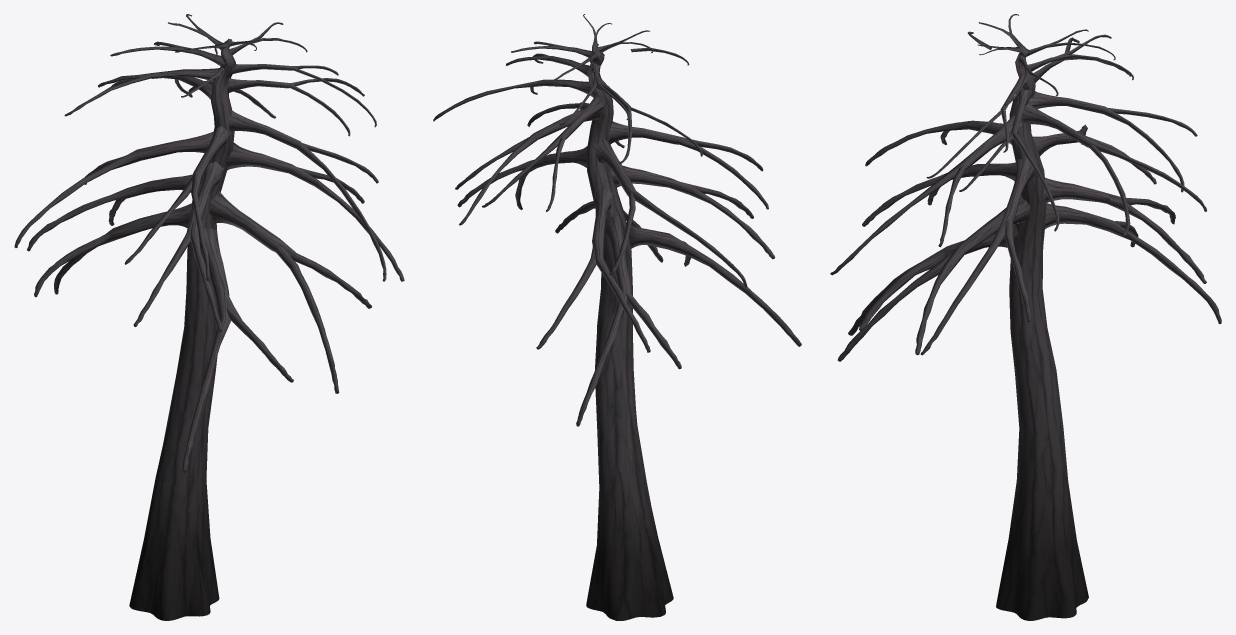
File: DeadTree_4.glb
3 views of the same model, side by side, from view 1: azimuth 30°, elevation 25°; view 2: azimuth 150°, elevation 25°; view 3: azimuth 270°, elevation 25° (orthographic). The views are drawn at different scales.
Visible parts, largest first — view 1: DeadTree_4; view 2: DeadTree_4; view 3: DeadTree_4.
Part boxes in pixels (x1=…): DeadTree_4: x1=14, y1=14, x2=404, y2=620; DeadTree_4: x1=433, y1=14, x2=801, y2=620; DeadTree_4: x1=830, y1=14, x2=1221, y2=620.
Size of the model in its own units: 7.96 by 12.77 by 7.73.
1 material, 1 textured.
